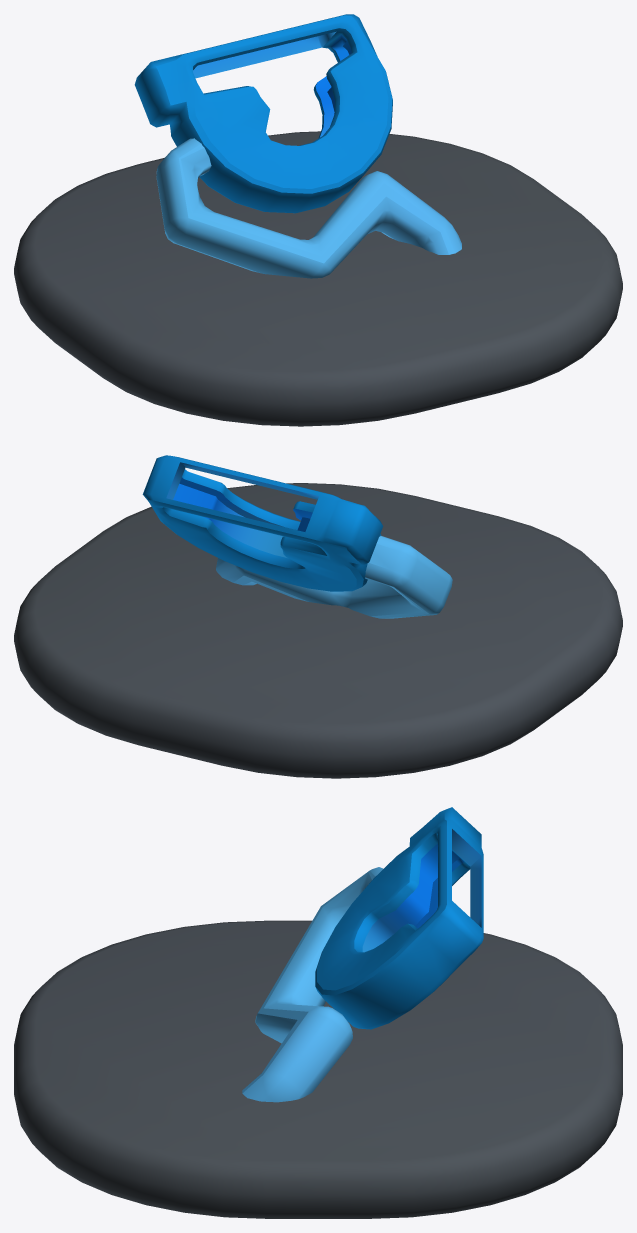
File: SawPlacemnt.fbx
3 renders of one model, top to bottom at view 1: azimuth 30°, elevation 25°; view 2: azimuth 150°, elevation 25°; view 3: azimuth 270°, elevation 25°, orthographic. The views are drawn at different scales.
Parts seen in each view (by area): view 1: Plane.008, Circle.006, Plane.007; view 2: Plane.008, Circle.006, Plane.007; view 3: Plane.008, Circle.006, Plane.007.
Part boxes in pixels (box(x1,y1,x2,y2)): Plane.008: box(14, 131, 622, 426); Circle.006: box(134, 14, 392, 213); Plane.007: box(156, 138, 461, 278); Plane.008: box(14, 483, 622, 778); Circle.006: box(142, 455, 383, 591); Plane.007: box(216, 536, 452, 618); Plane.008: box(14, 920, 622, 1218); Circle.006: box(315, 807, 483, 1029); Plane.007: box(242, 867, 383, 1102).
Size of the model in its own units: 1.2 by 0.5179 by 1.2.
